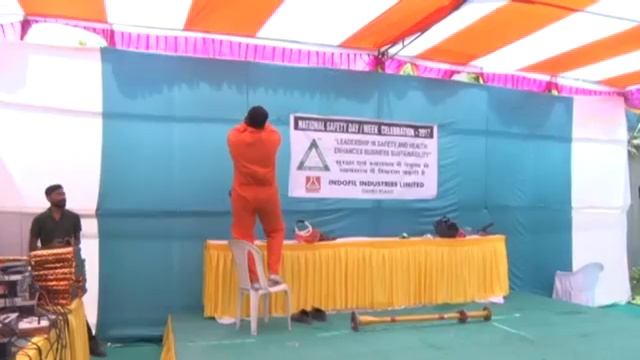helmet_off: (43, 184, 70, 209), (246, 104, 270, 129)
person: (221, 105, 290, 290), (26, 182, 84, 251)
